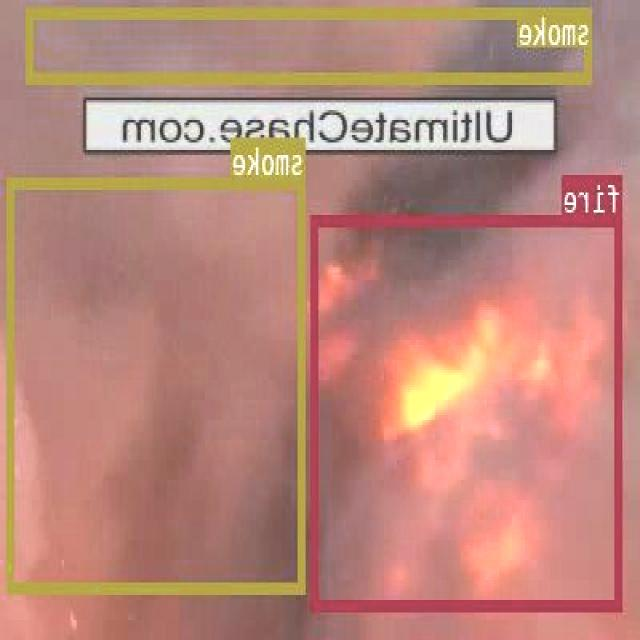fire: (313, 213, 624, 608)
smoke: (8, 176, 306, 592), (28, 6, 594, 81)
